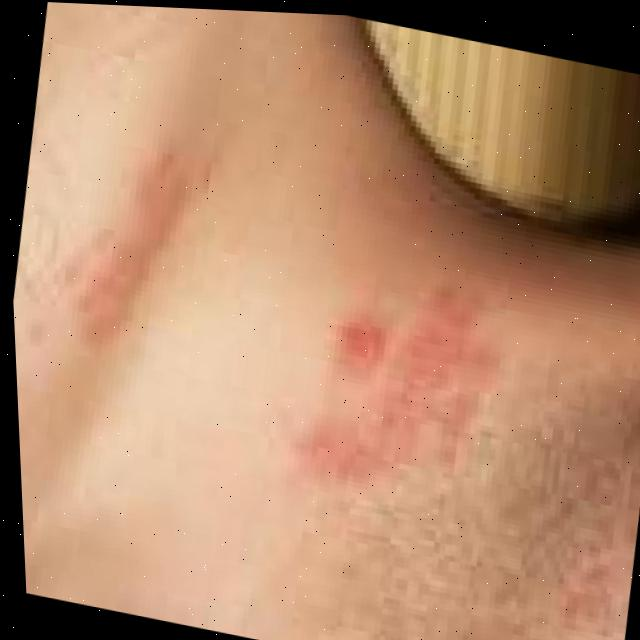Shingles: (294, 297, 508, 526)
